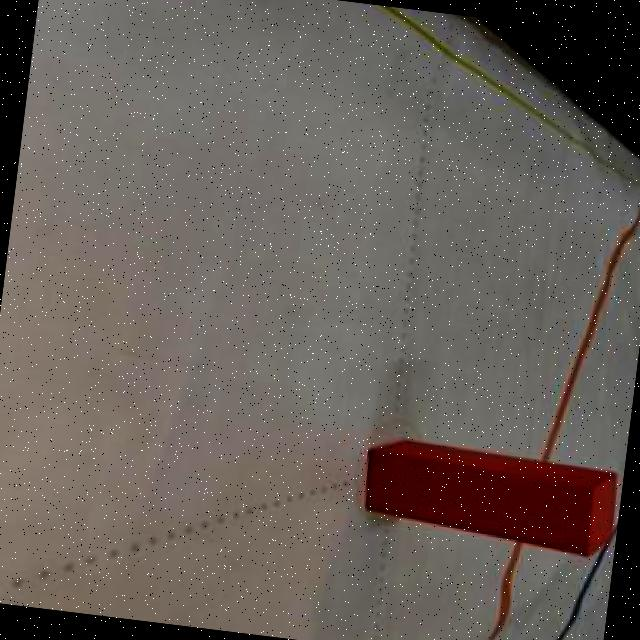redbox: (357, 434, 622, 562)
